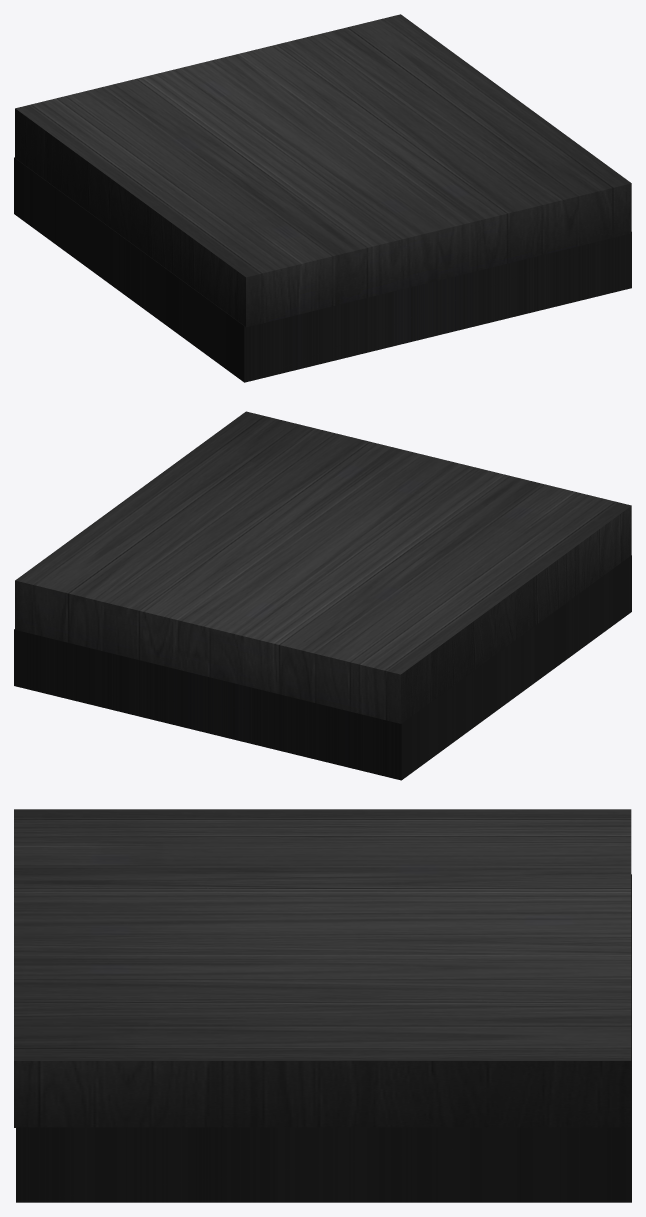
The model's file is Stadion.fbx.
3 renders of one model, top to bottom at view 1: azimuth 30°, elevation 25°; view 2: azimuth 150°, elevation 25°; view 3: azimuth 270°, elevation 25°, orthographic. The views are drawn at different scales.
Visible parts, largest first — view 1: pCube1, polySurface12; view 2: pCube1, polySurface12; view 3: pCube1, polySurface12.
Part boxes in pixels (x1,y1,x2,y2): pCube1: (15,14,631,327); polySurface12: (14,157,631,382); pCube1: (15,411,631,723); polySurface12: (14,555,631,780); pCube1: (14,809,631,1127); polySurface12: (16,874,631,1202).
Size of the model in its own units: 243 by 63.28 by 251.
